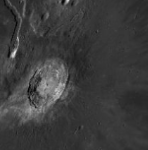crater: (22, 48, 112, 123)
